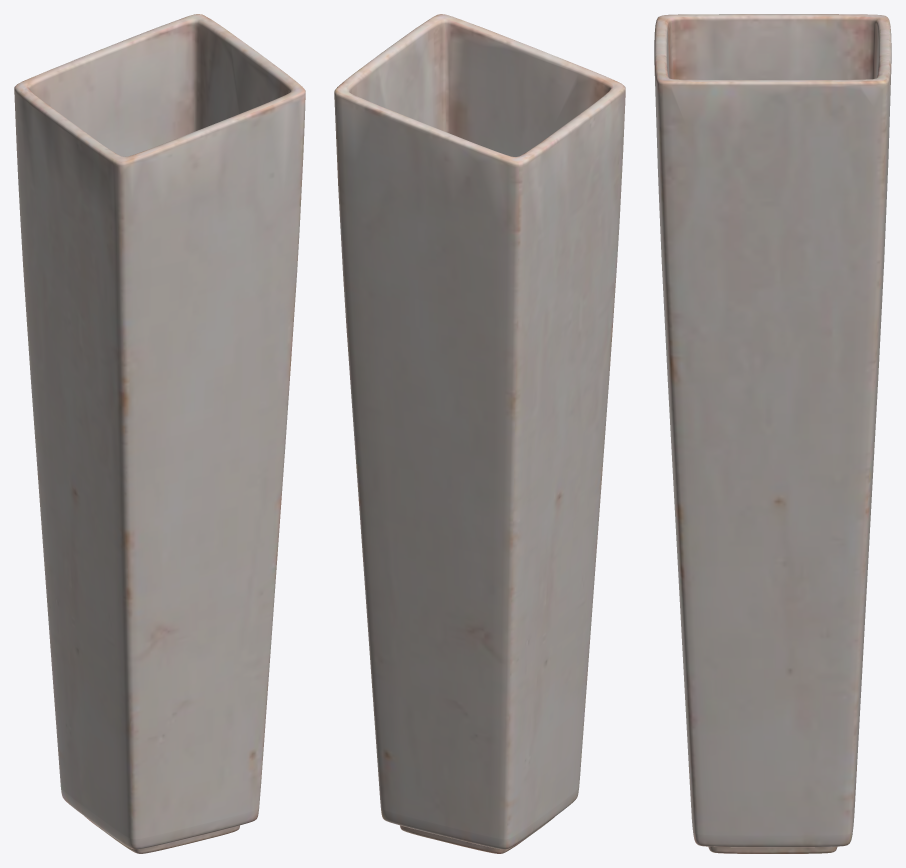
Rendered from vase_b.glb.
3 renders of one model, left to right at view 1: azimuth 30°, elevation 25°; view 2: azimuth 150°, elevation 25°; view 3: azimuth 270°, elevation 25°, orthographic. The views are drawn at different scales.
Visible parts, largest first — view 1: ceramic_vase_03; view 2: ceramic_vase_03; view 3: ceramic_vase_03.
Part boxes in pixels (x1,y1,x2,y2): ceramic_vase_03: (14, 14, 305, 853); ceramic_vase_03: (334, 14, 625, 853); ceramic_vase_03: (654, 14, 891, 853).
Bounding box in the file's own units: 0.1122 × 0.4143 × 0.1122.
1 material, 1 textured.
